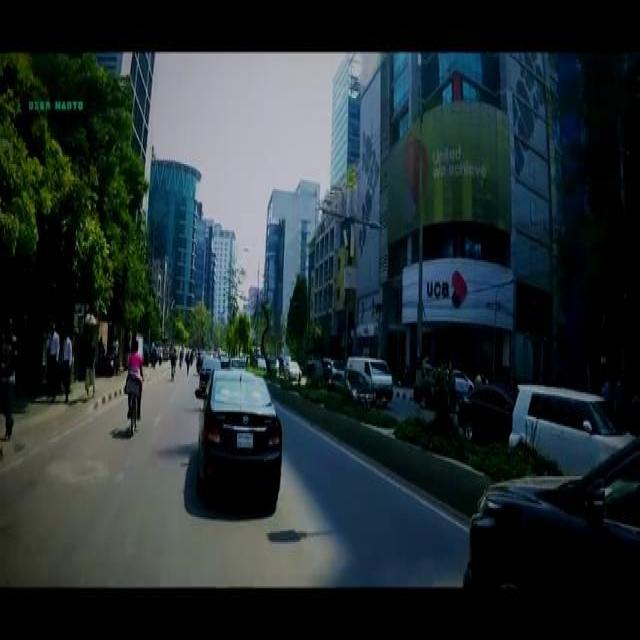bicycle: (125, 369, 141, 431)
car: (506, 382, 632, 472), (198, 364, 280, 490), (455, 383, 513, 439), (325, 369, 375, 403), (198, 354, 220, 386), (283, 358, 301, 376)
three wheelers -CNG-: (304, 356, 322, 387)
van: (346, 354, 392, 400)
